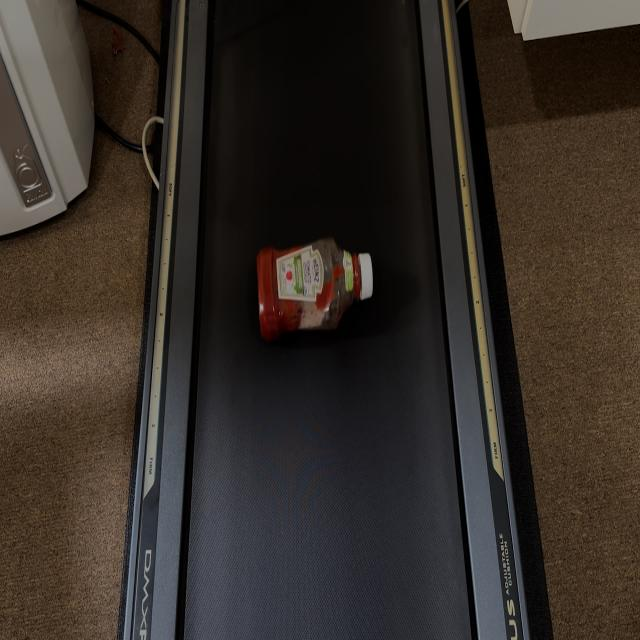Trash: (255, 239, 376, 335)
